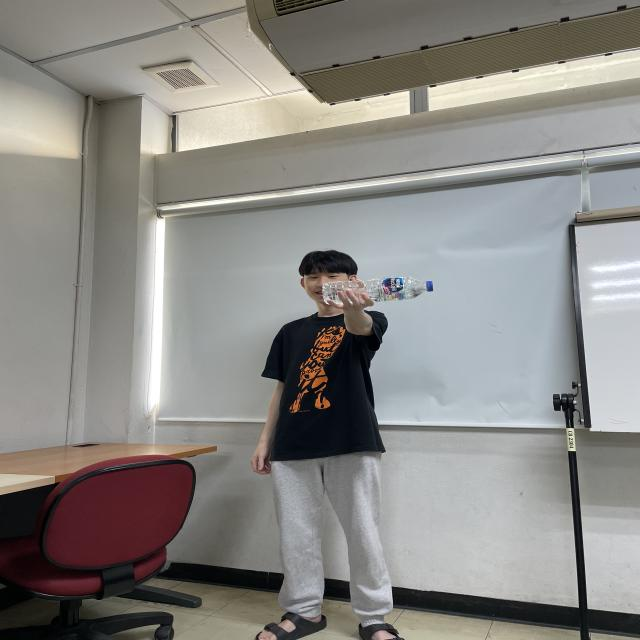bottle: (319, 275, 436, 306)
